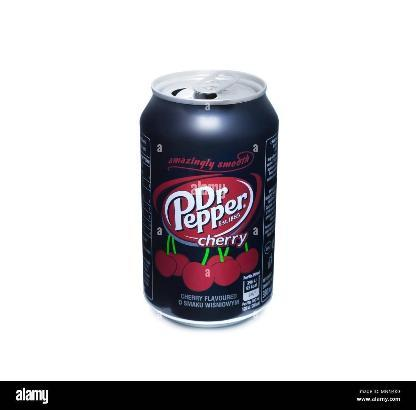Can: (140, 67, 280, 328)
